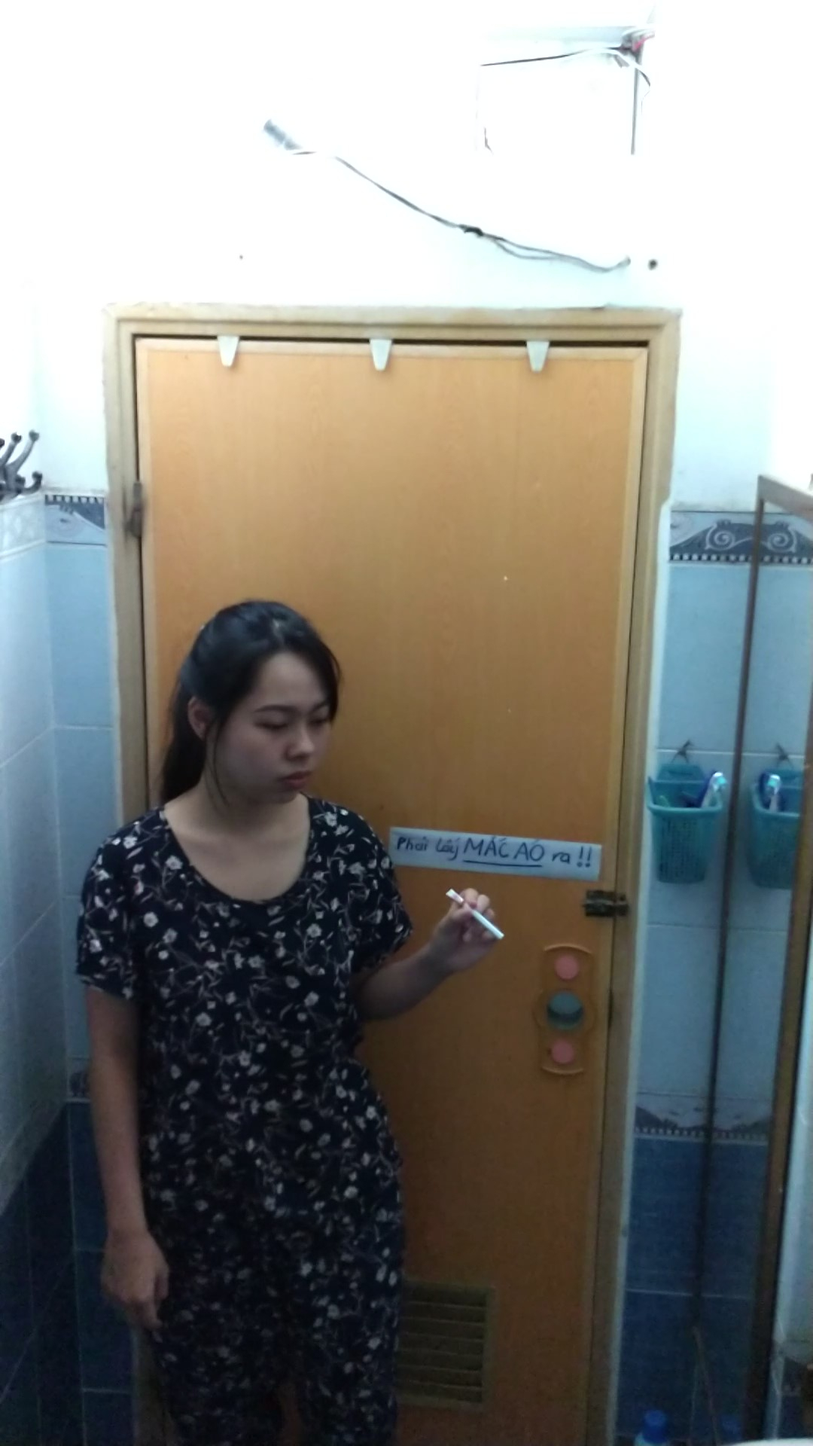cigarette: (471, 911, 507, 943)
person: (59, 575, 517, 1446)
